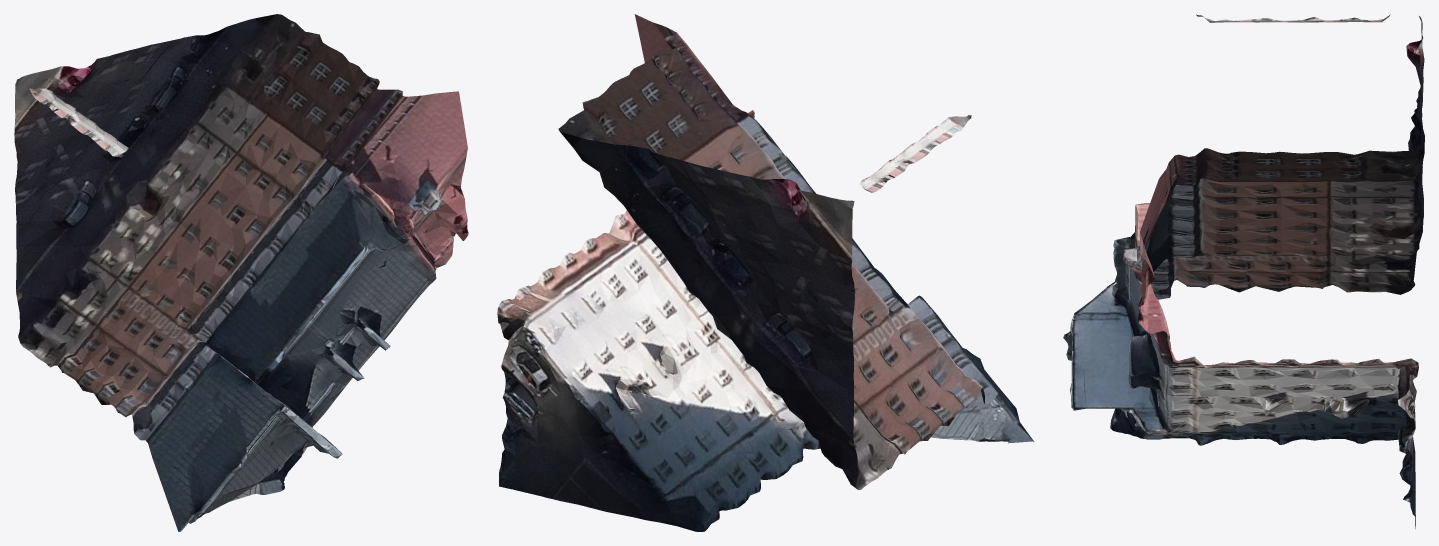
The model's file is Tile_+031_+022_L20_0002110.obj.
3 renders of one model, left to right at view 1: azimuth 30°, elevation 25°; view 2: azimuth 150°, elevation 25°; view 3: azimuth 270°, elevation 25°, orthographic. The views are drawn at different scales.
Size of the model in its own units: 31.5 by 31.5 by 29.24.
1 material, 1 textured.
